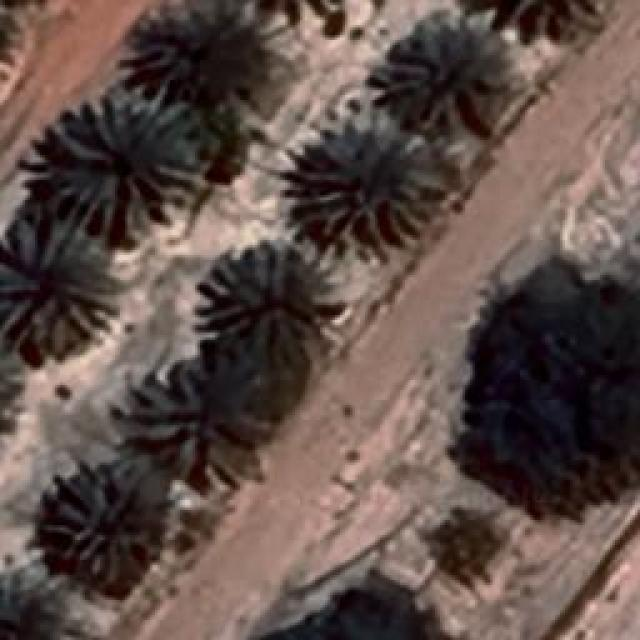PalmTree: (45, 85, 200, 240), (292, 97, 450, 245), (115, 358, 275, 488), (198, 240, 320, 358), (42, 465, 148, 580), (158, 0, 262, 105), (404, 26, 508, 119), (8, 240, 96, 348), (468, 0, 606, 46), (0, 563, 82, 640), (0, 0, 37, 80), (0, 326, 25, 423), (257, 0, 360, 21)
